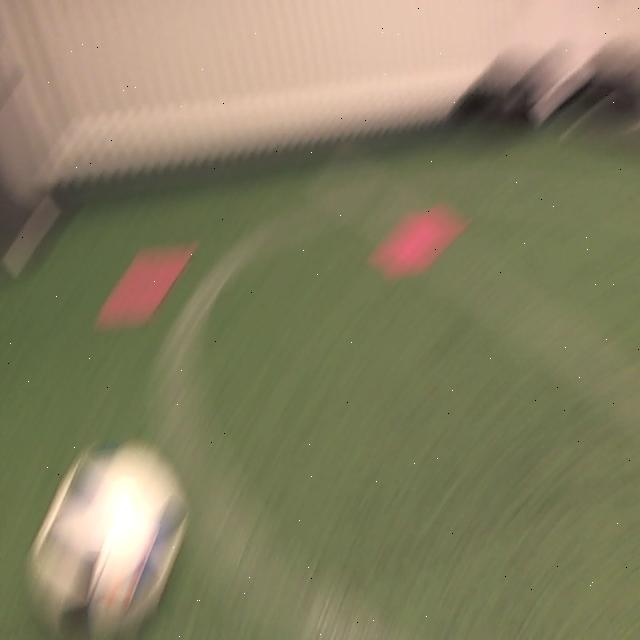ball: (26, 436, 187, 640)
